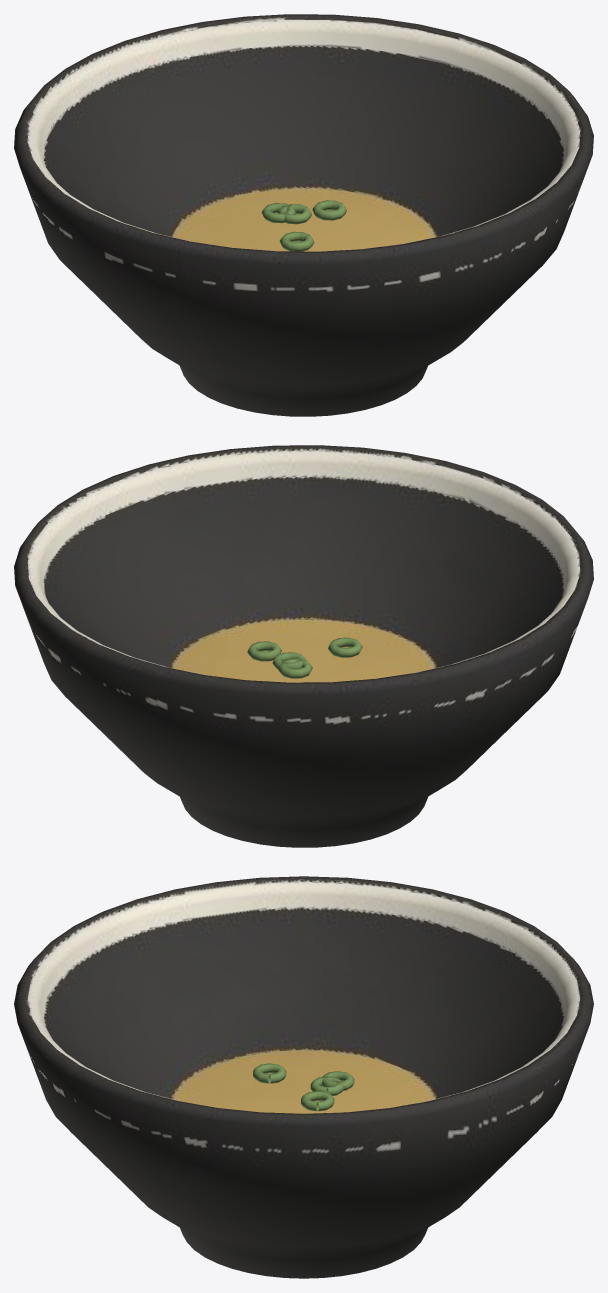
The model's file is udon_nn2.glb.
3 views of the same model, one above another, from view 1: azimuth 30°, elevation 25°; view 2: azimuth 150°, elevation 25°; view 3: azimuth 270°, elevation 25° (orthographic).
Visible parts, largest first — view 1: prop_udon_nn2_felt; view 2: prop_udon_nn2_felt; view 3: prop_udon_nn2_felt.
Part boxes in pixels (left/top/right/bottom): prop_udon_nn2_felt: left=14, top=14, right=593, bottom=416; prop_udon_nn2_felt: left=14, top=445, right=593, bottom=847; prop_udon_nn2_felt: left=14, top=876, right=593, bottom=1278.
Bounding box in the file's own units: 0.3018 × 0.1323 × 0.3018.
Materials: 1 (1 with a texture image).
